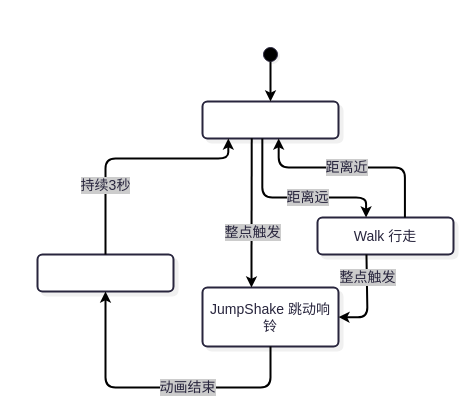
Image size: 475x413. Some labels were removed from this diagram. The shapes that lost their labels are listed below. From the top down, each one's centre as x and y in pixels, then its label:
(272,121): Idle/Decide 决策
(107,274): Charge 跑动冲刺
